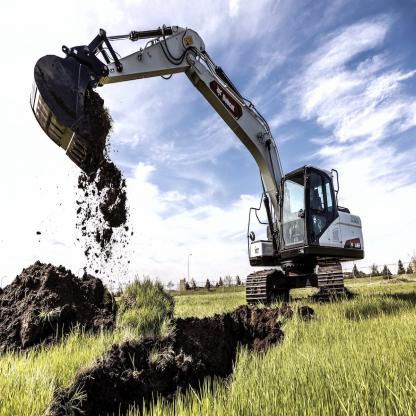excavator: (40, 20, 378, 320)
